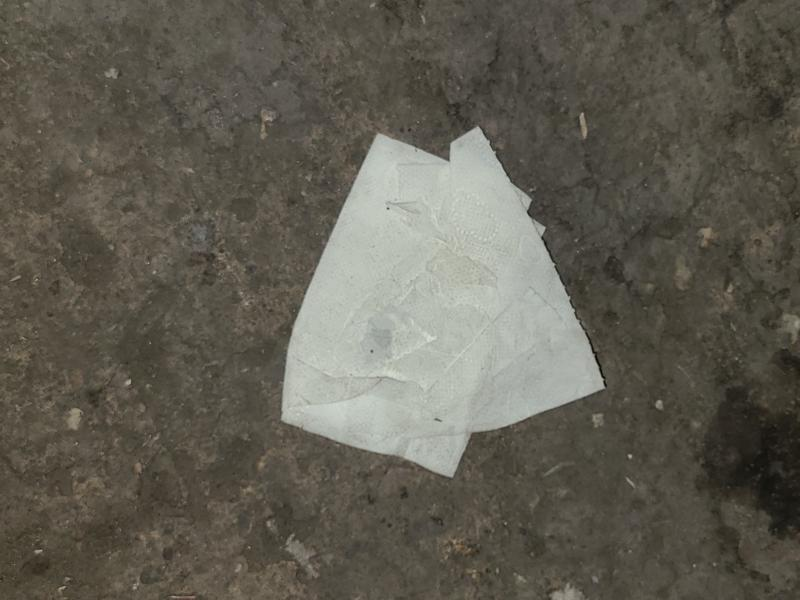papel: (279, 129, 606, 479)
